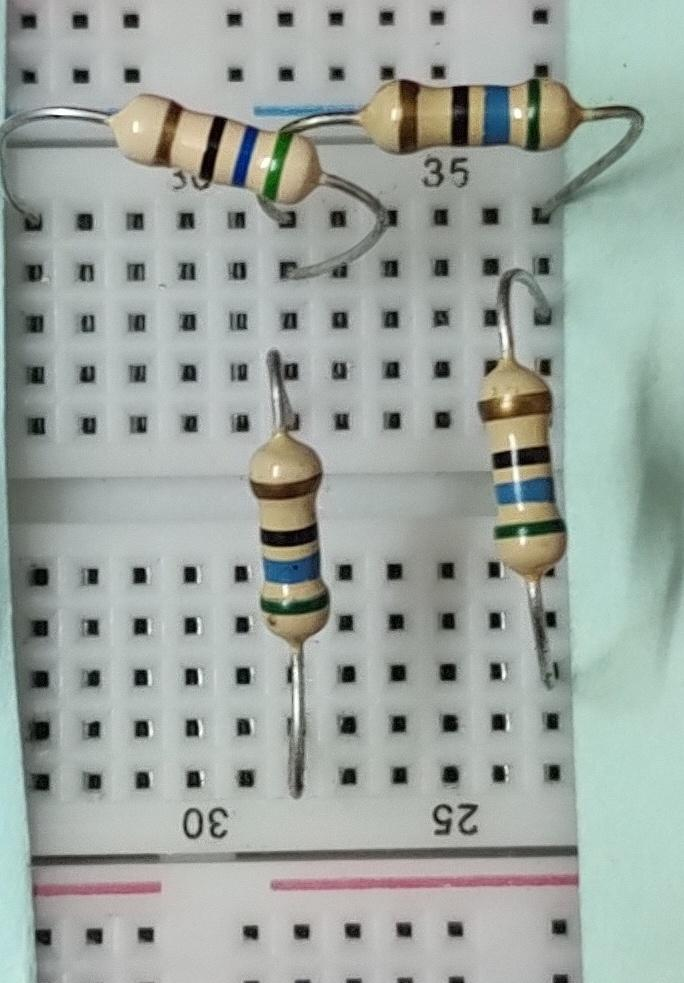resistor: (435, 342, 598, 595), (88, 88, 340, 238), (232, 420, 367, 650), (365, 52, 595, 185)
